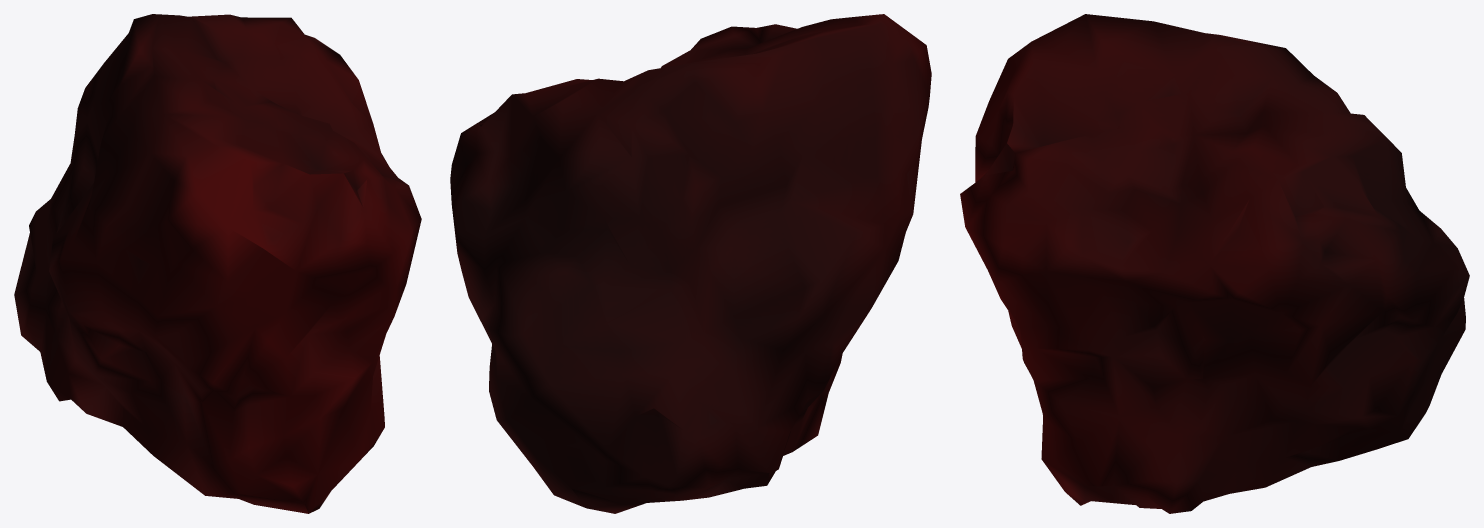
Rendered from geology-rocks-meteoritesmall_v3.fbx.
3 views of the same model, side by side, from view 1: azimuth 30°, elevation 25°; view 2: azimuth 150°, elevation 25°; view 3: azimuth 270°, elevation 25° (orthographic). The views are drawn at different scales.
Parts seen in each view (by area): view 1: MeteoriteSmall_v3; view 2: MeteoriteSmall_v3; view 3: MeteoriteSmall_v3.
Boxes of the visible parts, <box> form: MeteoriteSmall_v3: <box>14,14,421,513</box>; MeteoriteSmall_v3: <box>450,14,931,513</box>; MeteoriteSmall_v3: <box>960,14,1469,513</box>.
Size of the model in its own units: 0.9796 by 1.18 by 1.28.
